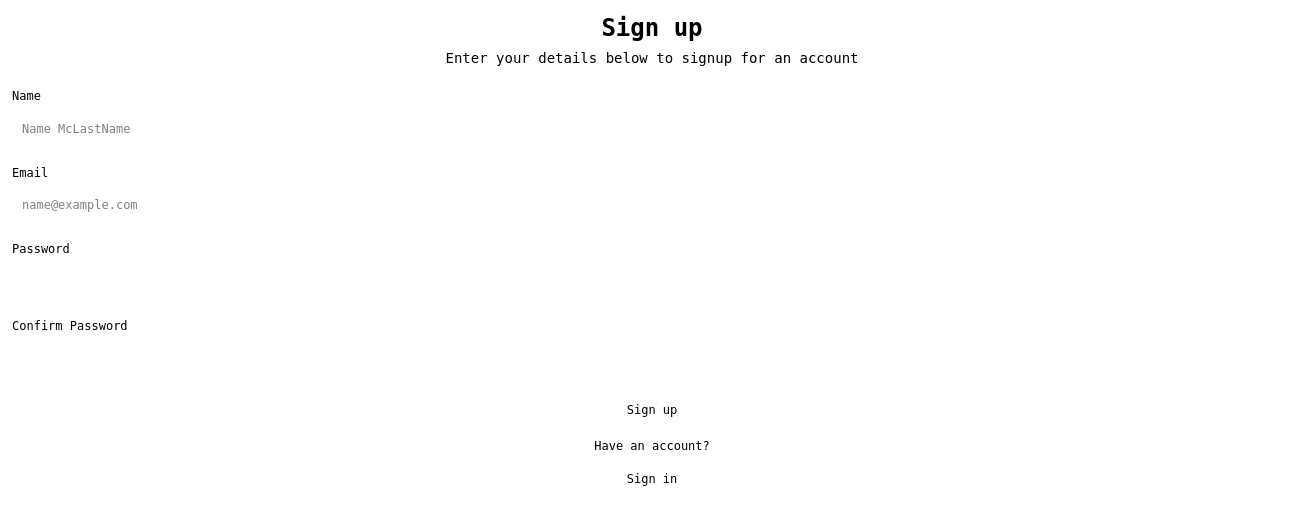
it: SignupForm › validation › clears email error when user starts typing
This screenshot has width=1304, height=527.
In the field labelled "Email": point(652, 205) [12,189,1292,221], type "invalid"
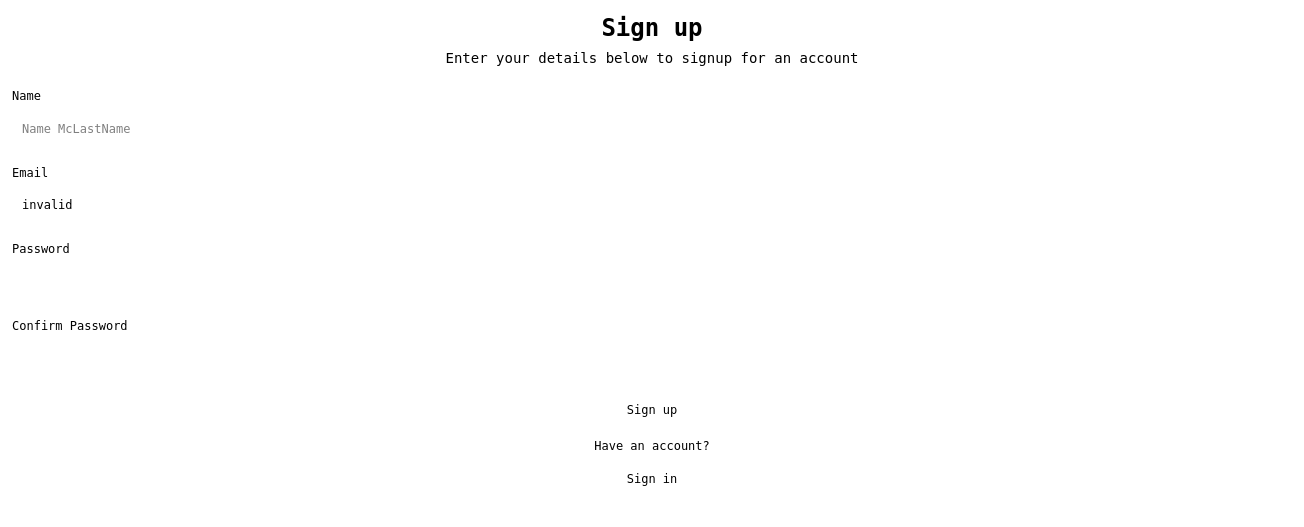
Press Tab
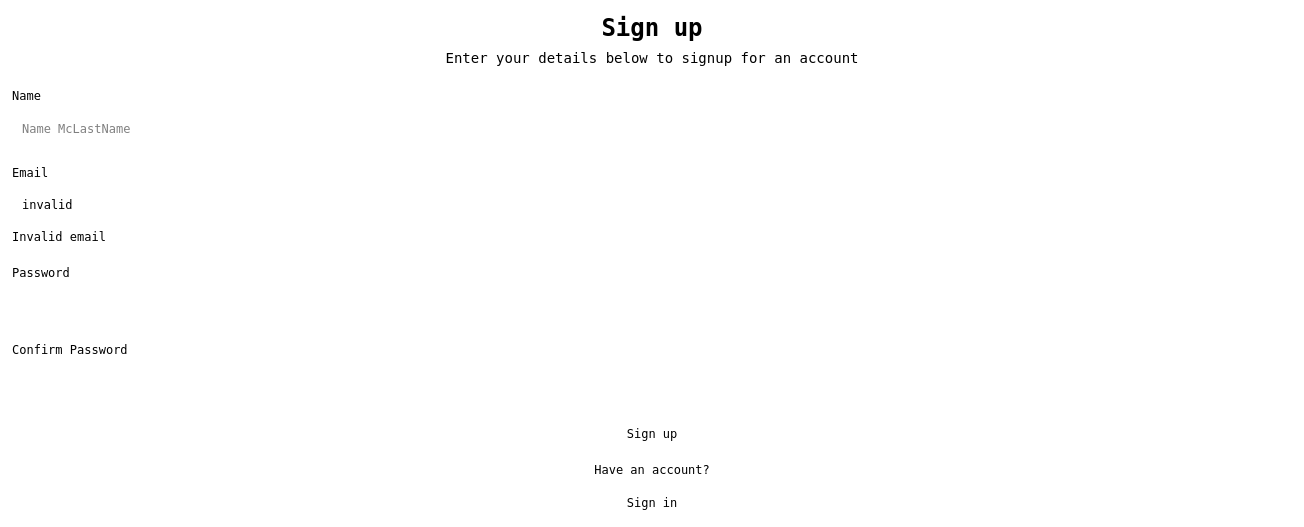
expect the text "Invalid email" is shown: met, box [12,230,106,244]
In the field labelled "Email": point(652, 205) [12,189,1292,221], type "@"
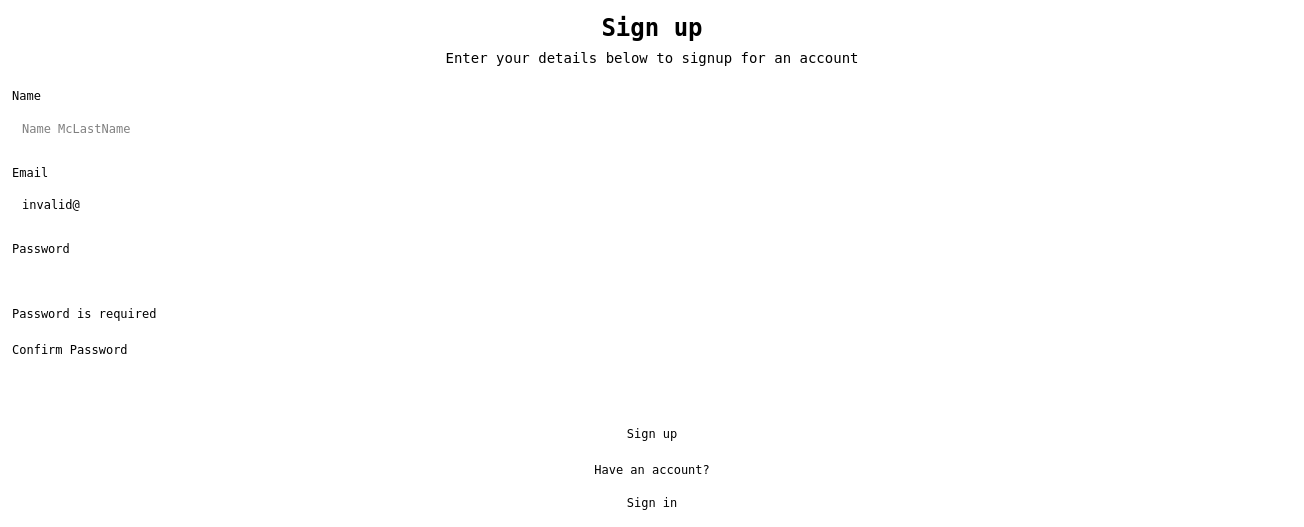
expect the text "Invalid email" is gone: met
